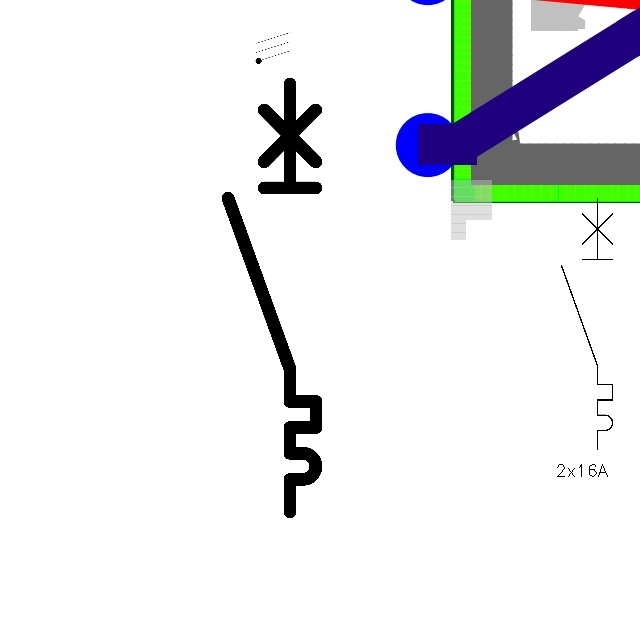interruptor_termomagnetico: (217, 72, 327, 522), (555, 192, 619, 456)
